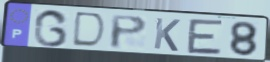8: (227, 20, 260, 58)
D: (70, 10, 108, 50)
E: (186, 18, 226, 57)
G: (32, 8, 70, 48)
K: (152, 16, 182, 53)
P: (109, 14, 149, 51)
